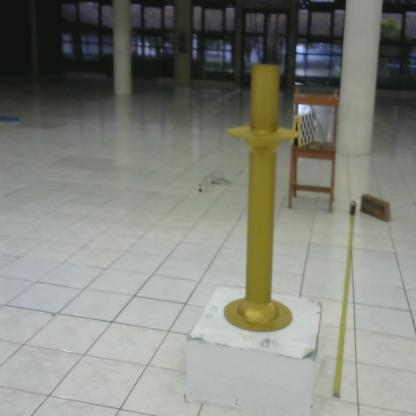pole: (215, 55, 309, 345)
